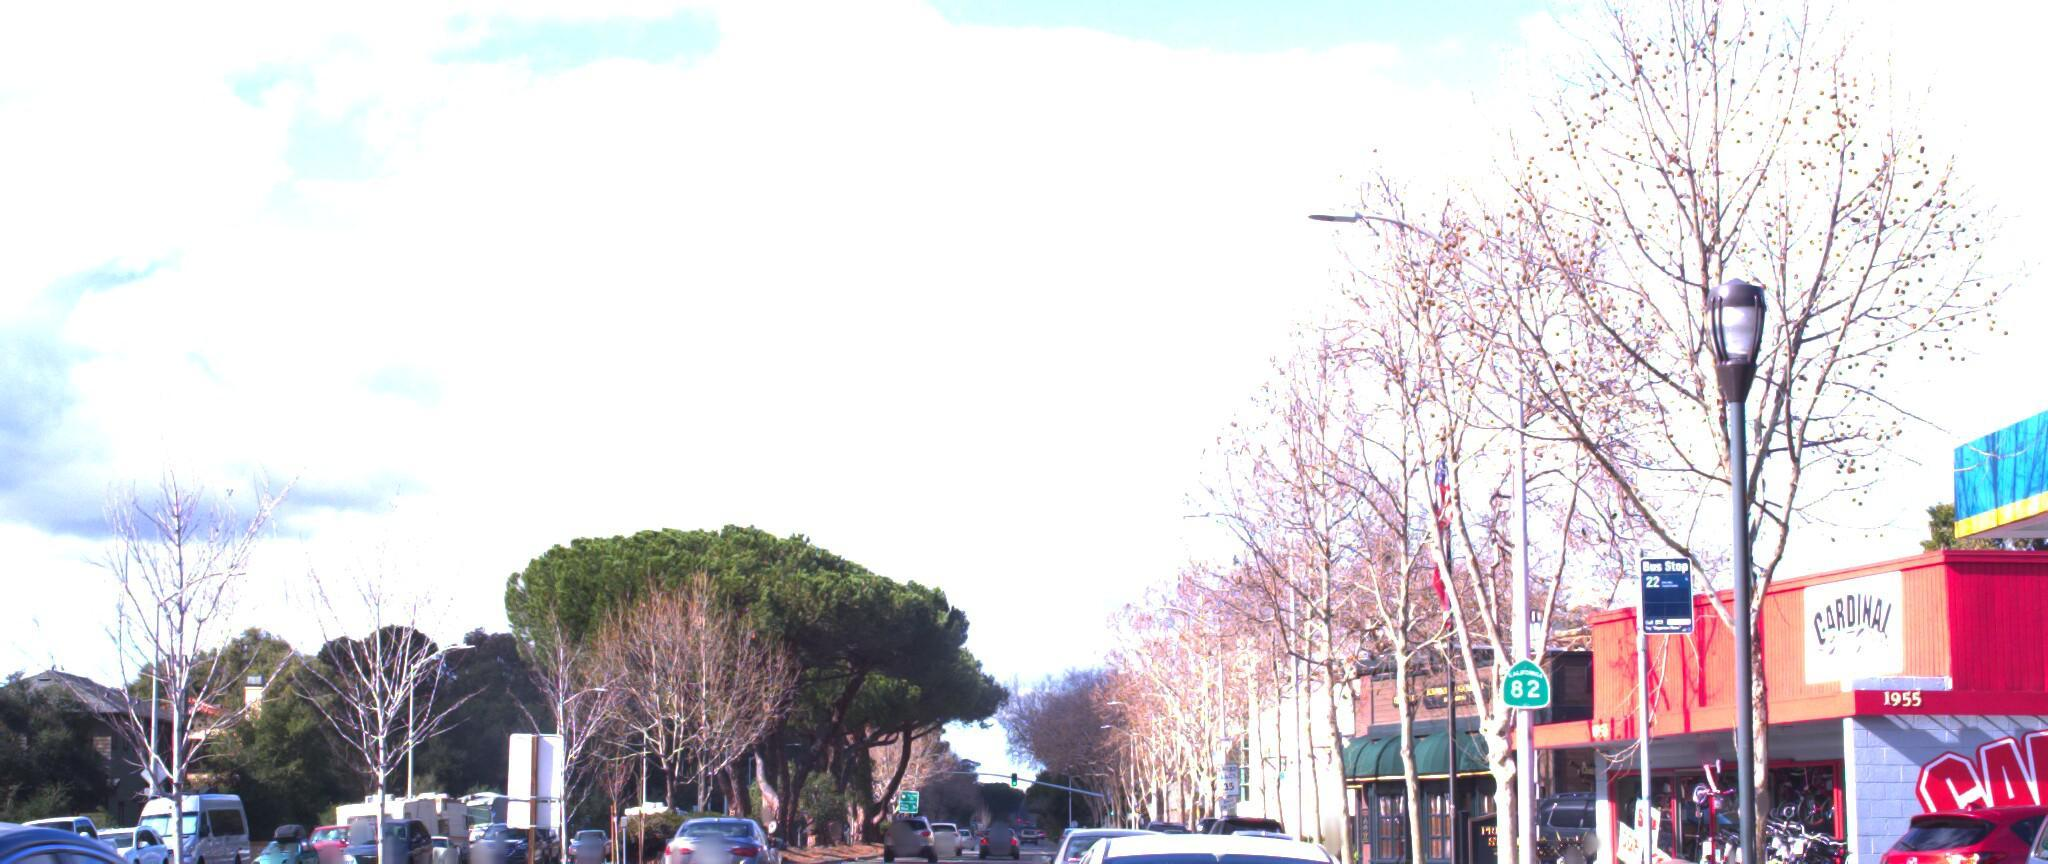bicycle: (1735, 807, 1849, 864), (1528, 846, 1569, 864)
car: (0, 766, 350, 864), (1024, 805, 1404, 864), (0, 797, 140, 864), (654, 794, 782, 864), (73, 805, 195, 864), (1980, 775, 2048, 864)
